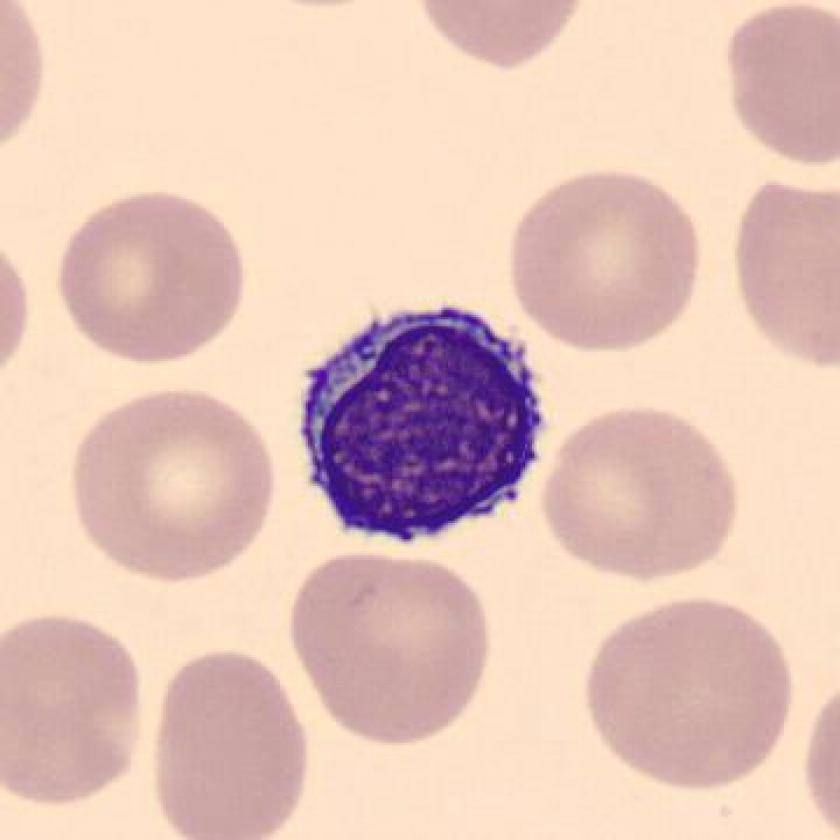lymphocyte: (286, 293, 556, 561)
